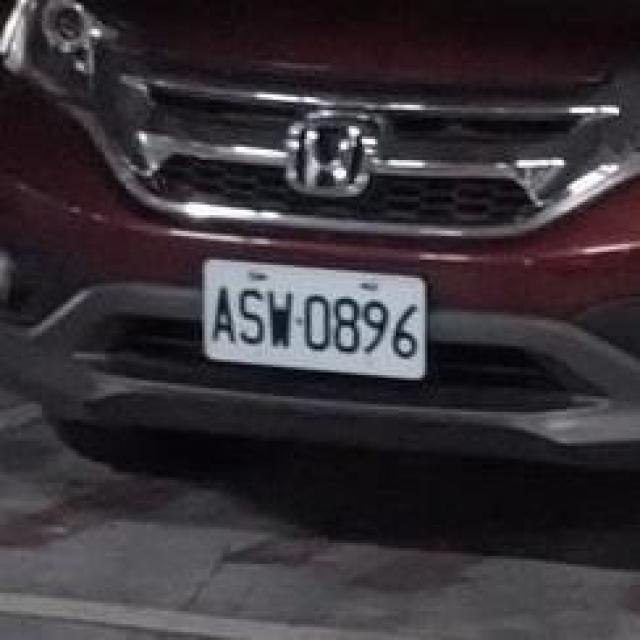W: (186, 247, 438, 388)
